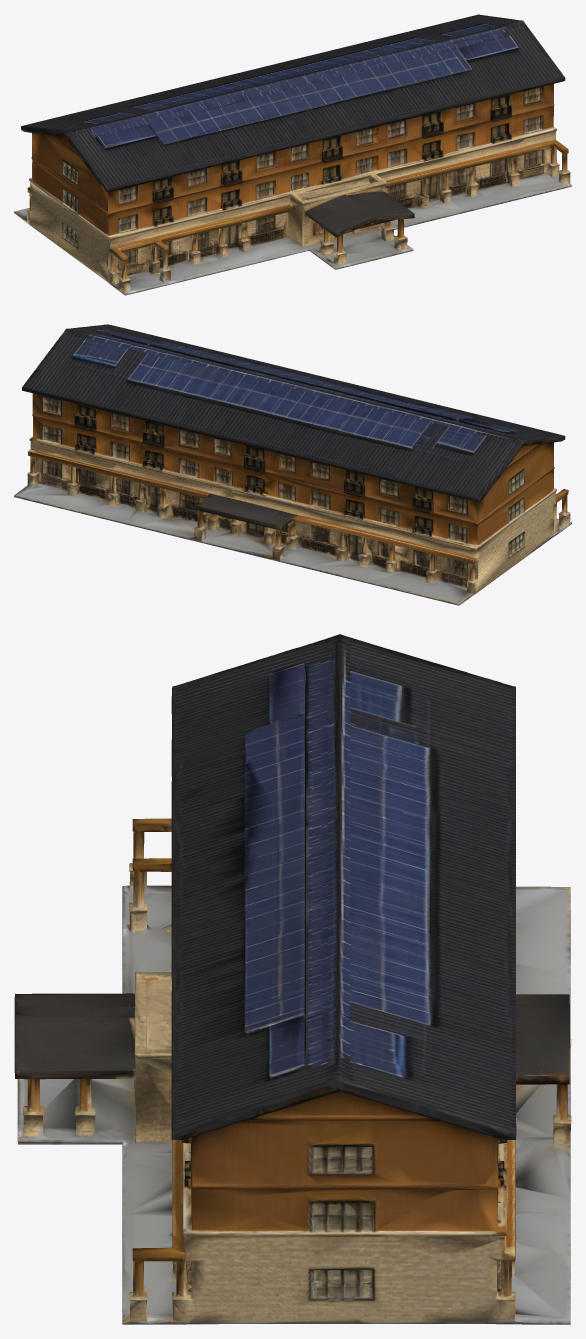
File: acknowledge-lodge.glb
3 views of the same model, one above another, from view 1: azimuth 30°, elevation 25°; view 2: azimuth 150°, elevation 25°; view 3: azimuth 270°, elevation 25° (orthographic). The views are drawn at different scales.
Visible parts, largest first — view 1: node_0; view 2: node_0; view 3: node_0.
Part boxes in pixels (x1,y1,x2,y2): node_0: (14, 14, 571, 295); node_0: (14, 324, 571, 605); node_0: (14, 634, 571, 1324).
Size of the model in its own units: 1.06 by 0.2761 by 0.5565.
1 material, 1 textured.
